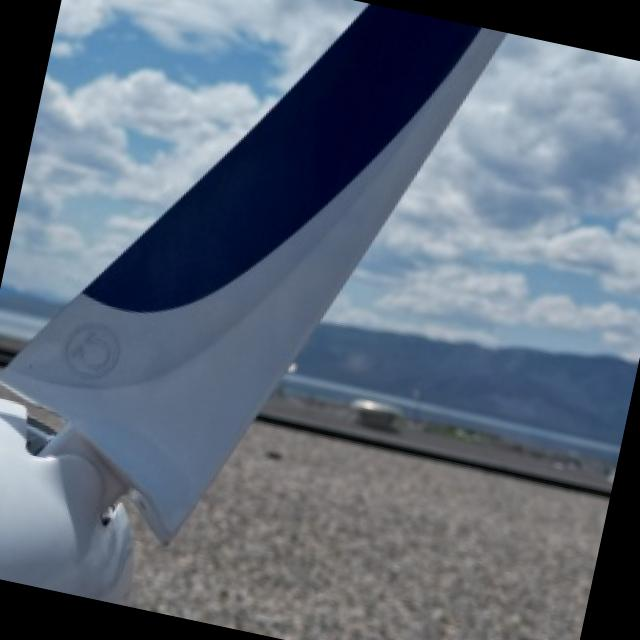healthy: (0, 3, 503, 603), (132, 423, 607, 640)
